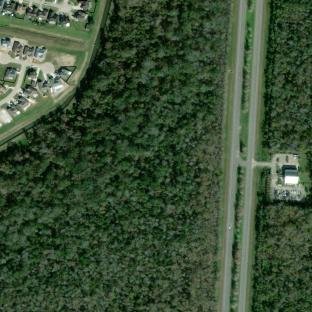Floresta: (0, 0, 231, 312), (262, 0, 312, 153), (251, 199, 312, 312)
